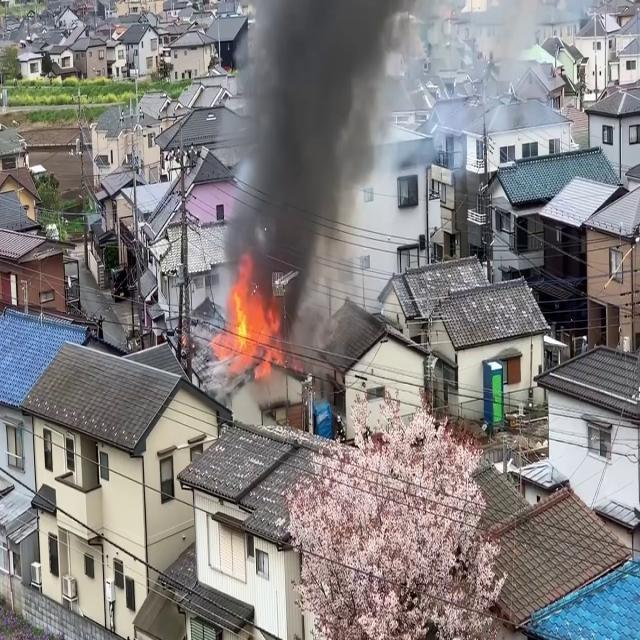Fire: (216, 263, 284, 375)
Smoke: (218, 0, 400, 327)
